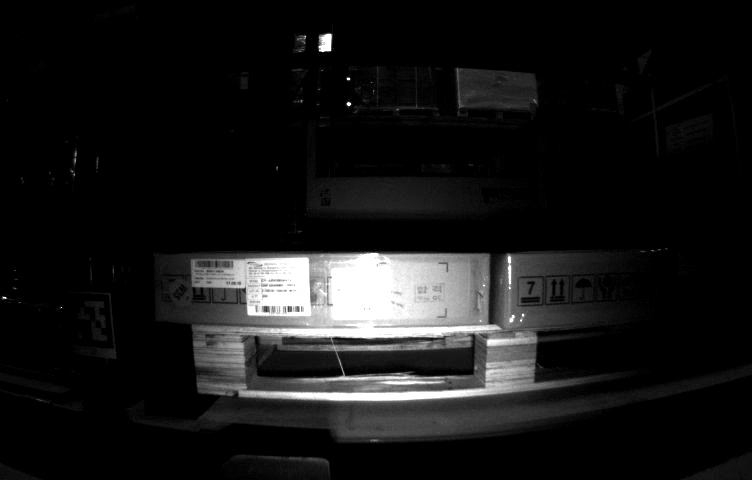True Barcode: (248, 259, 309, 314)
